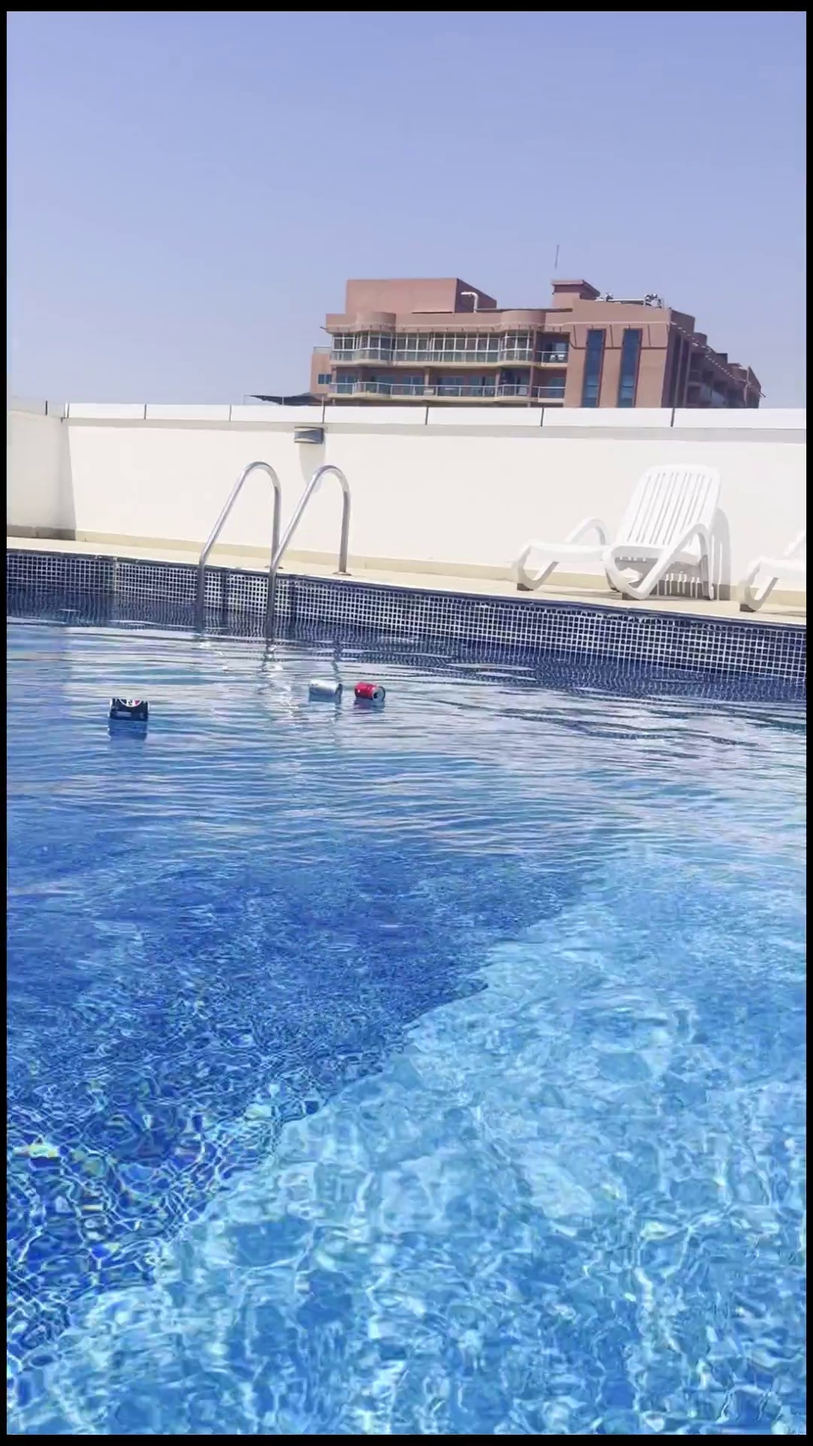debris: (105, 687, 151, 735), (349, 667, 385, 715), (303, 668, 341, 712)
